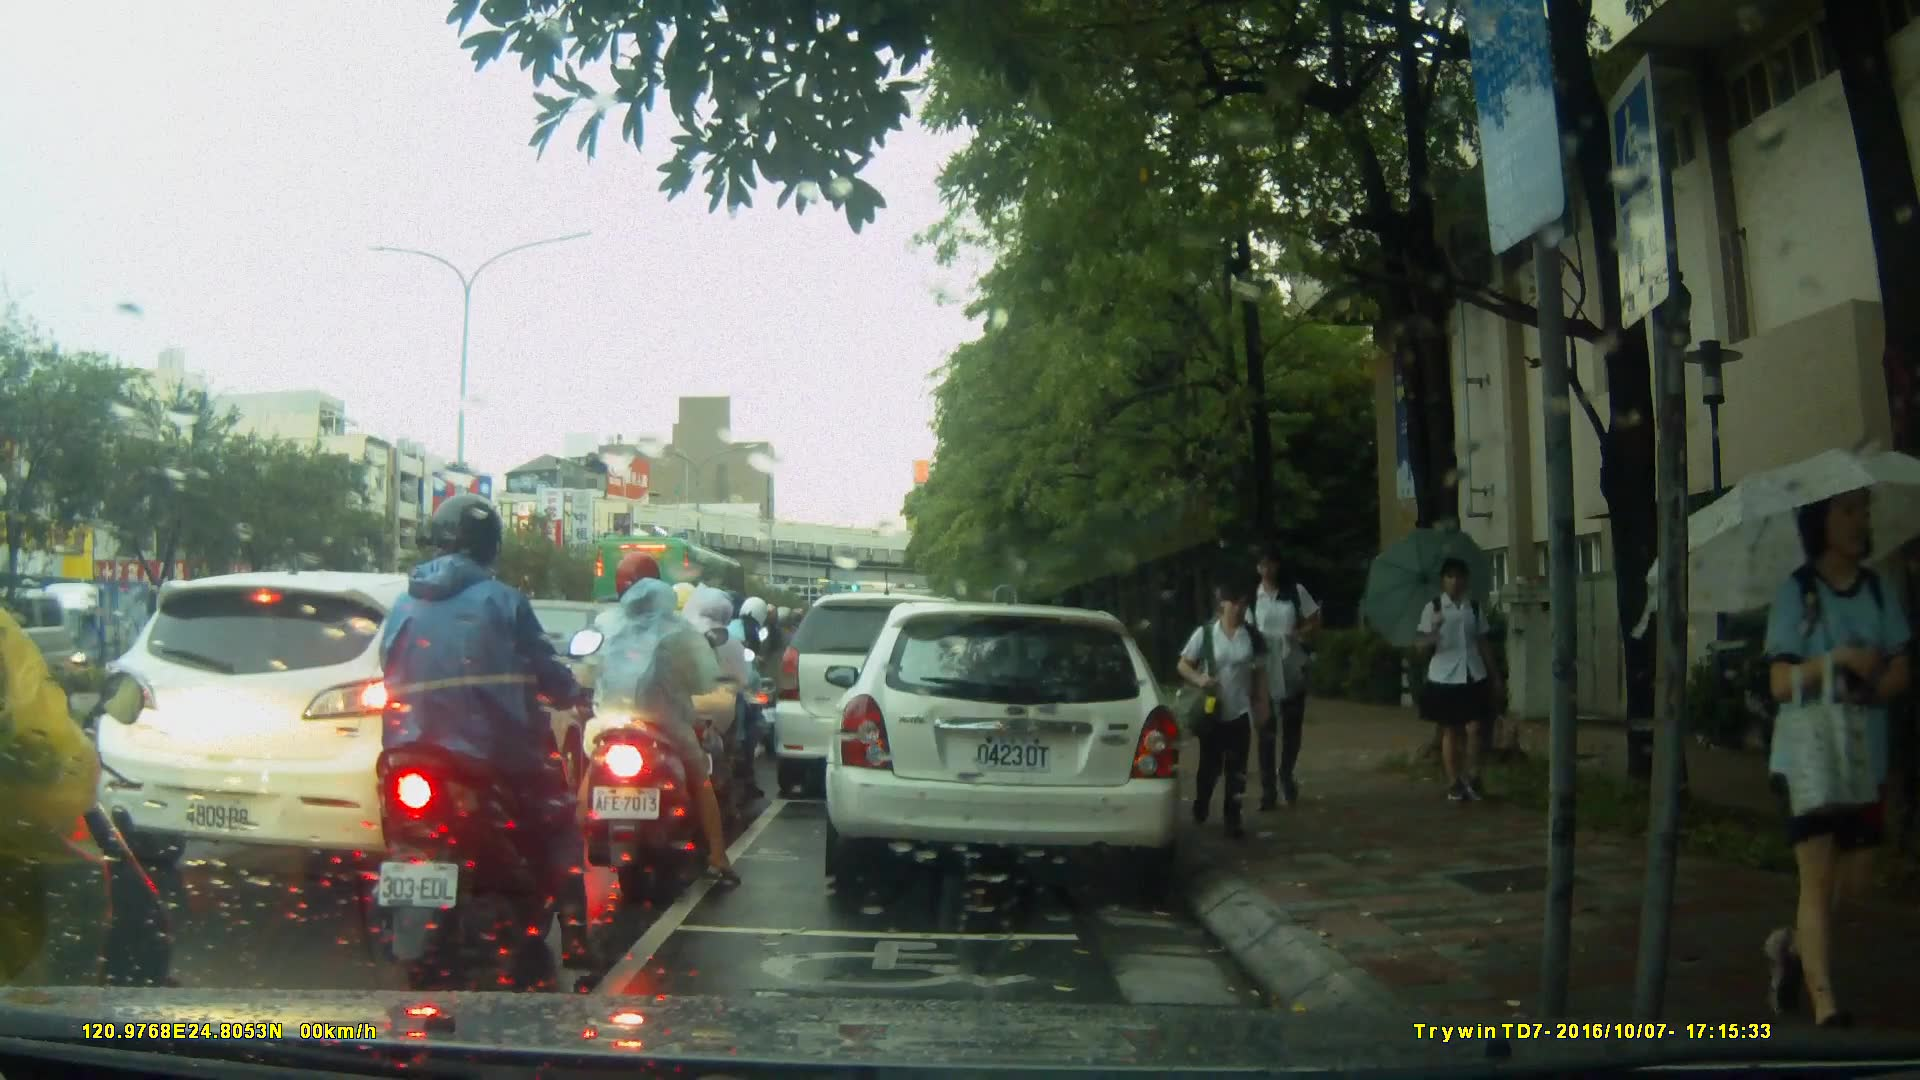pedestrian: (1716, 466, 1919, 1026), (1398, 551, 1503, 811), (1171, 572, 1274, 828), (1240, 543, 1335, 815)
rider: (1, 455, 181, 1080), (377, 488, 603, 980), (559, 553, 746, 907), (639, 577, 764, 825), (692, 594, 777, 778)
vehicle: (94, 569, 617, 883), (822, 604, 1187, 883), (774, 595, 995, 802), (20, 576, 199, 697), (594, 534, 763, 645)
